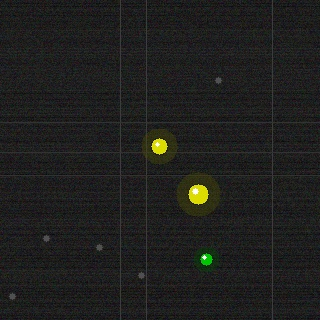green_normal: (198, 251, 214, 267)
yellow_warning: (186, 182, 210, 206), (149, 136, 169, 156)
